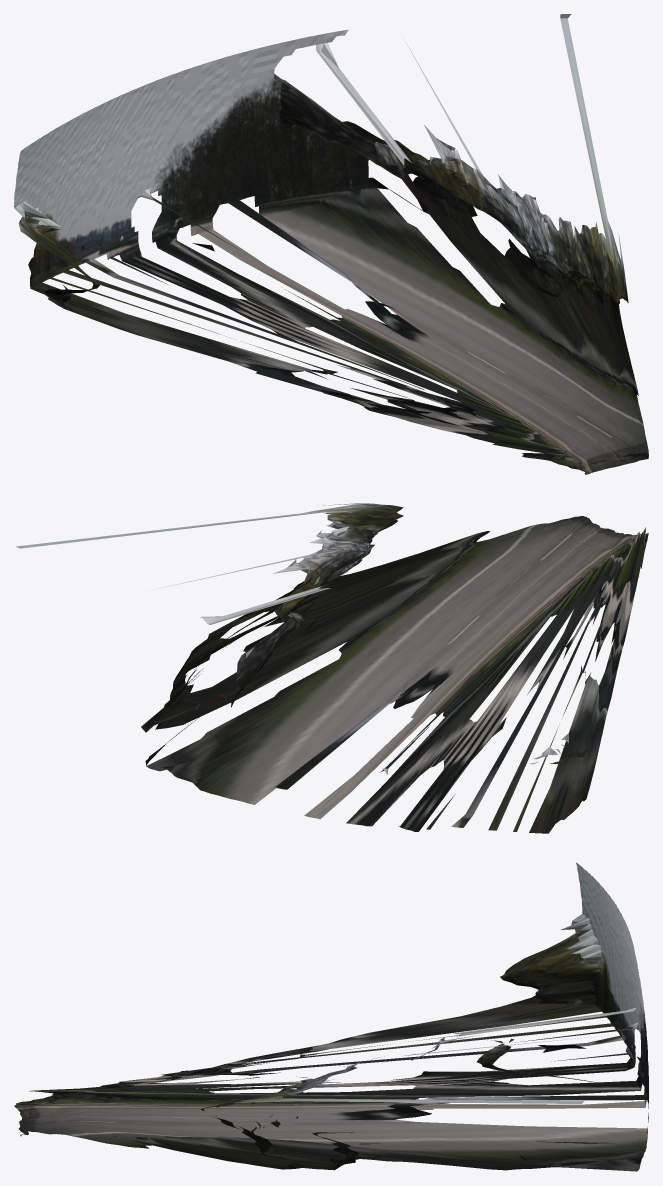
3 renders of one model, top to bottom at view 1: azimuth 30°, elevation 25°; view 2: azimuth 150°, elevation 25°; view 3: azimuth 270°, elevation 25°, orthographic. The views are drawn at different scales.
Visible parts, largest first — view 1: defaultobject; view 2: defaultobject; view 3: defaultobject.
Part boxes in pixels (x1,y1,x2,y2): defaultobject: (14,14,648,474); defaultobject: (16,503,648,833); defaultobject: (14,862,648,1171).
Bounding box in the file's own units: 40.11 × 12.17 × 44.72.
Materials: 1 (1 with a texture image).
